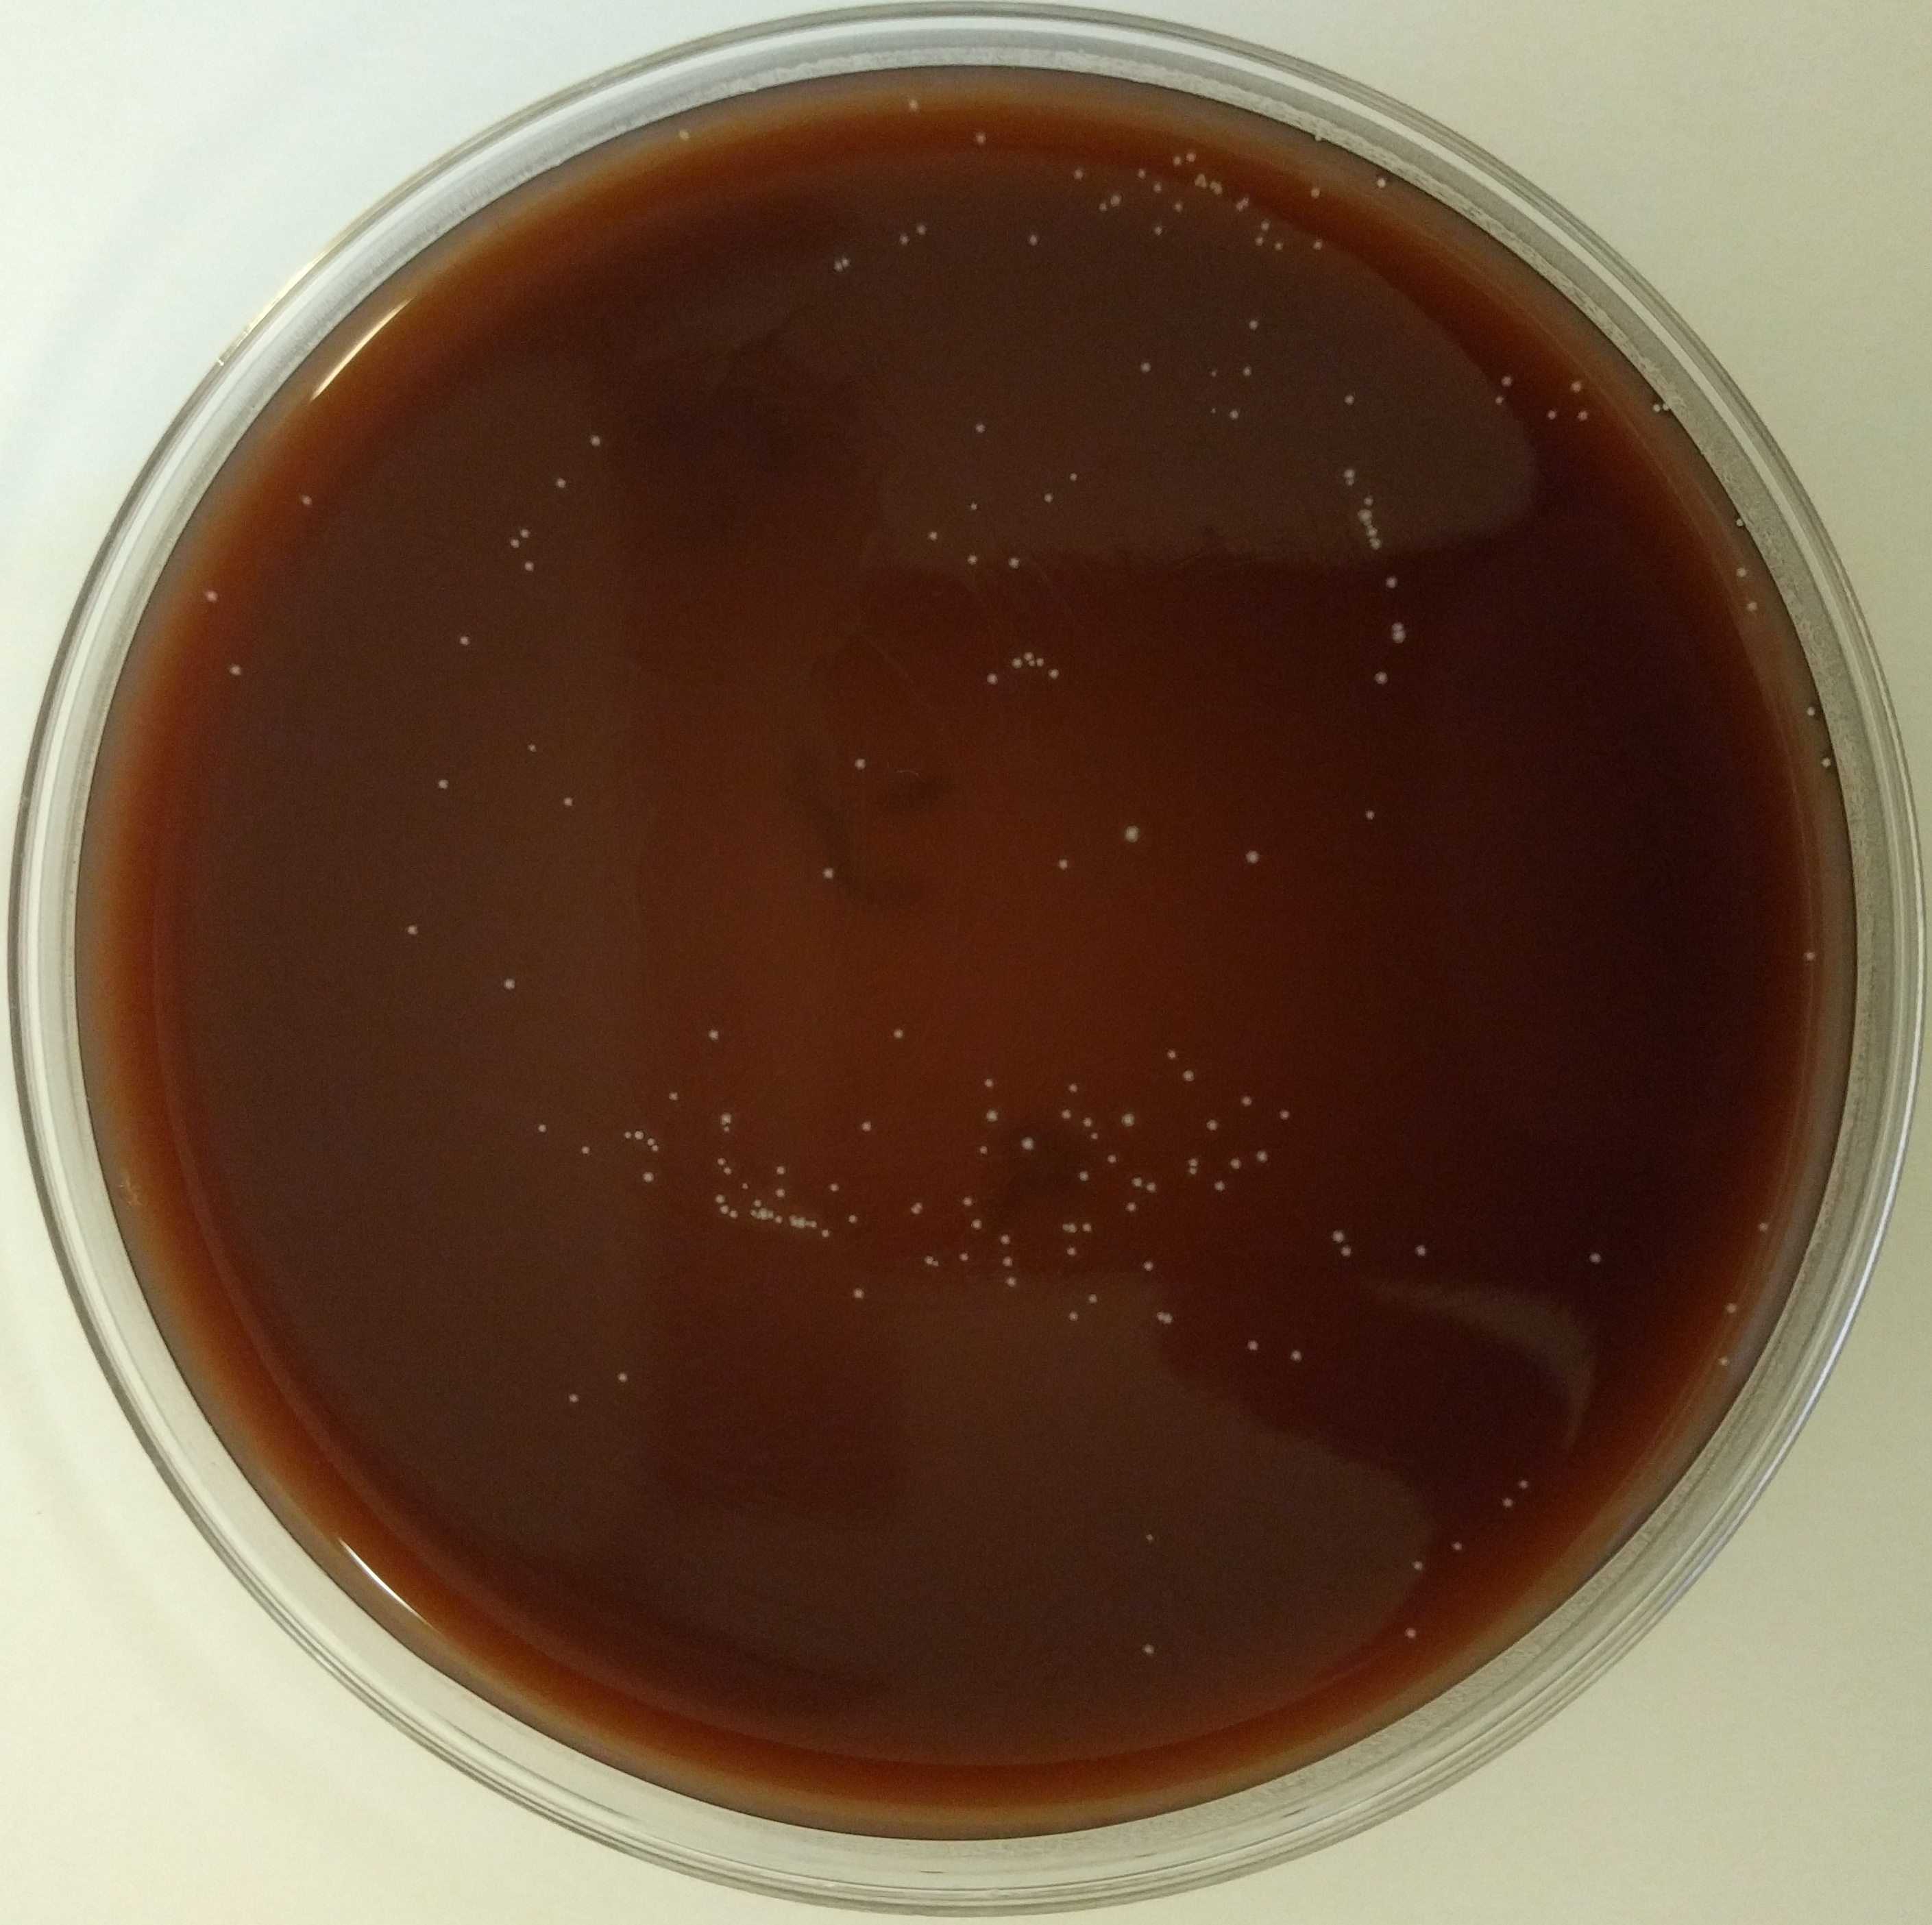sp09: (1354, 508, 1375, 525), (1125, 823, 1141, 843), (1366, 538, 1386, 554), (1192, 171, 1207, 189), (1245, 850, 1262, 866), (1715, 1354, 1733, 1370), (1207, 182, 1225, 197), (1139, 360, 1155, 375), (998, 1253, 1014, 1269), (1072, 164, 1086, 182), (1109, 192, 1123, 210), (1236, 196, 1250, 213), (1148, 180, 1165, 194), (897, 231, 911, 247), (975, 132, 989, 148), (1133, 166, 1148, 182), (1170, 201, 1186, 215), (1227, 409, 1243, 423), (1574, 409, 1590, 423), (1363, 807, 1377, 823), (1179, 1068, 1195, 1082), (1278, 1107, 1294, 1121), (1253, 1149, 1269, 1163), (1003, 1275, 1019, 1289), (1289, 1349, 1303, 1364), (1726, 1299, 1740, 1315), (1141, 1643, 1156, 1657), (1733, 517, 1747, 532), (1389, 621, 1407, 633), (404, 924, 421, 936), (1151, 224, 1165, 238), (1343, 393, 1357, 407), (1056, 857, 1070, 871), (1121, 1112, 1135, 1126), (1331, 1230, 1345, 1245), (1588, 1250, 1602, 1264), (910, 1202, 924, 1216), (1246, 1340, 1260, 1354), (712, 1192, 726, 1206), (204, 589, 219, 603), (508, 538, 522, 552), (1368, 524, 1382, 538), (1207, 367, 1220, 383), (1373, 672, 1389, 684), (1211, 1179, 1227, 1192), (1125, 1200, 1141, 1213), (890, 1028, 906, 1040), (984, 1111, 999, 1123), (922, 1257, 938, 1269), (717, 1111, 733, 1123), (435, 779, 451, 792), (1803, 948, 1819, 961), (1757, 1220, 1770, 1236), (853, 758, 869, 770), (1502, 1497, 1516, 1509), (908, 99, 920, 113), (1026, 234, 1040, 247), (1095, 201, 1109, 213), (1252, 236, 1266, 249), (1260, 220, 1274, 233), (1248, 317, 1260, 331), (1308, 187, 1322, 199), (1375, 176, 1387, 190), (1500, 375, 1514, 388), (1493, 393, 1505, 407), (1343, 465, 1357, 478), (1384, 576, 1398, 589), (1745, 601, 1757, 615), (1010, 656, 1022, 670), (973, 423, 987, 435), (968, 499, 980, 513), (1066, 471, 1081, 483), (1008, 557, 1022, 569), (1042, 492, 1056, 504), (1066, 1081, 1081, 1093), (1059, 1109, 1074, 1121), (1077, 1171, 1091, 1183), (1130, 1174, 1142, 1188), (1021, 1139, 1035, 1151), (1146, 1179, 1158, 1193), (1416, 1245, 1428, 1259), (970, 1216, 984, 1229), (998, 1232, 1012, 1245), (1082, 1222, 1096, 1234), (635, 1126, 647, 1141), (502, 978, 516, 991), (821, 866, 834, 880), (1088, 1130, 1102, 1142), (1821, 756, 1832, 772), (1393, 633, 1408, 643), (985, 673, 1001, 684), (797, 1215, 806, 1232), (679, 129, 691, 141), (915, 224, 927, 236), (1241, 367, 1253, 379), (1571, 379, 1583, 391), (1546, 409, 1558, 421), (1803, 707, 1816, 719), (1049, 666, 1061, 679), (927, 531, 940, 543), (966, 554, 978, 566), (1167, 1047, 1179, 1059), (1229, 1158, 1241, 1171), (961, 1195, 973, 1208), (959, 1250, 971, 1262), (776, 1186, 788, 1199), (714, 1155, 726, 1167), (707, 1029, 719, 1042), (642, 1171, 654, 1183), (580, 1144, 592, 1156), (536, 1123, 548, 1135), (562, 795, 575, 807), (555, 478, 568, 490), (229, 665, 241, 677), (1022, 649, 1035, 661), (1364, 494, 1377, 506), (1273, 240, 1283, 254), (1207, 404, 1218, 418), (1735, 568, 1749, 578), (1239, 1096, 1253, 1107), (1340, 1246, 1354, 1257), (1066, 1312, 1081, 1322), (1410, 1560, 1424, 1571), (1155, 1310, 1165, 1324), (832, 259, 841, 275), (758, 1208, 767, 1223), (1165, 1310, 1174, 1326), (1186, 1156, 1202, 1165), (788, 1213, 795, 1232), (719, 1126, 732, 1137), (807, 1220, 818, 1232), (1170, 155, 1181, 167), (1312, 240, 1322, 252), (1345, 478, 1356, 490), (1188, 1169, 1200, 1179), (1107, 1153, 1118, 1165), (860, 1121, 873, 1132), (1088, 1294, 1098, 1306), (853, 1289, 866, 1299), (829, 1183, 841, 1193), (1518, 1477, 1528, 1490), (1144, 1530, 1156, 1541), (1405, 1629, 1417, 1639), (617, 1371, 629, 1382), (460, 635, 471, 647), (300, 495, 312, 506), (843, 254, 853, 266), (717, 1206, 728, 1218), (1058, 1220, 1068, 1232), (1035, 656, 1047, 666), (1313, 132, 1324, 145), (728, 1211, 742, 1220), (1207, 1121, 1222, 1130), (1084, 1116, 1093, 1130), (1144, 1259, 1153, 1273), (1065, 1246, 1079, 1255), (753, 1197, 763, 1208), (740, 1181, 751, 1192), (1186, 152, 1197, 162), (591, 435, 601, 446), (821, 1227, 832, 1237), (668, 1091, 679, 1102), (848, 1213, 858, 1223), (776, 1163, 786, 1174), (622, 1130, 633, 1141), (1453, 1542, 1463, 1553), (525, 744, 536, 754), (524, 562, 534, 573), (767, 1206, 774, 1222), (774, 1213, 783, 1225), (984, 1079, 996, 1088), (977, 1146, 989, 1155), (568, 1394, 580, 1403), (1662, 402, 1671, 414), (1652, 402, 1661, 414), (1068, 1222, 1075, 1236), (647, 1137, 656, 1148), (724, 1167, 735, 1176), (520, 527, 531, 536), (749, 1208, 756, 1220), (1028, 659, 1035, 672), (654, 1146, 659, 1155)
